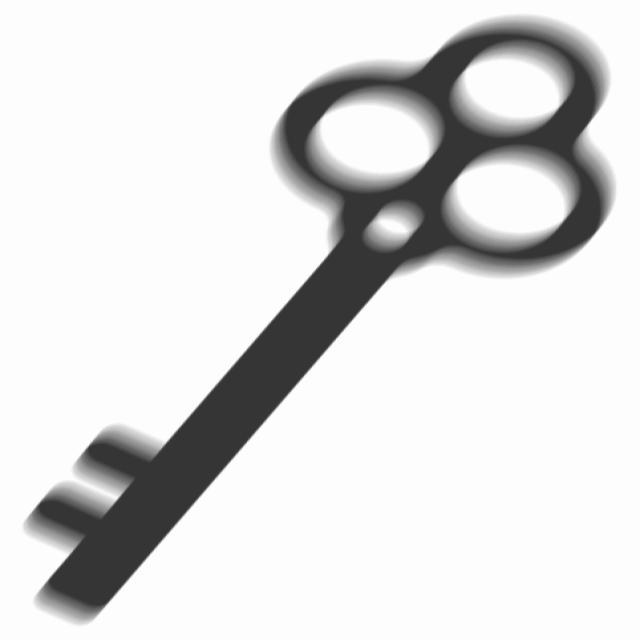key: (8, 6, 630, 640)
